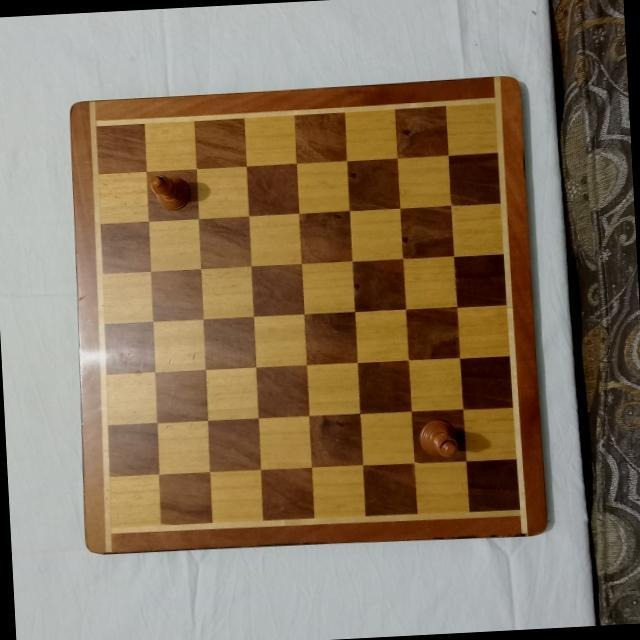white-bishop: (147, 169, 193, 210), (418, 417, 462, 459)
